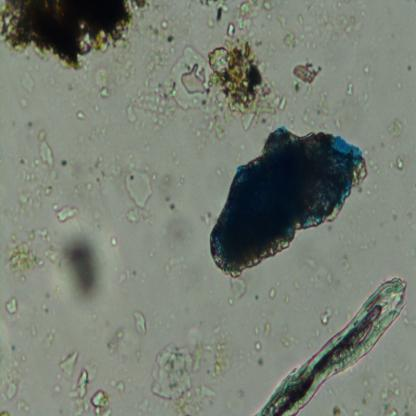Background material: (126, 43, 274, 132), (0, 0, 147, 69), (48, 227, 112, 312), (155, 336, 232, 406), (11, 140, 70, 223), (59, 346, 112, 414), (283, 4, 362, 49), (286, 87, 348, 137), (200, 2, 275, 40), (97, 43, 144, 100), (6, 227, 56, 276), (0, 341, 30, 413), (74, 155, 121, 199), (124, 170, 158, 229), (158, 222, 192, 276), (159, 160, 186, 207), (246, 315, 283, 345), (29, 124, 56, 165), (379, 369, 401, 415), (291, 58, 324, 86), (16, 68, 36, 111), (226, 274, 249, 308), (298, 252, 328, 278), (106, 320, 128, 354), (280, 319, 300, 346), (132, 308, 148, 338), (119, 264, 141, 284), (3, 295, 20, 320), (84, 124, 104, 145), (386, 117, 404, 139), (36, 332, 55, 347), (110, 374, 124, 394), (194, 211, 212, 226), (389, 156, 406, 171), (274, 95, 290, 110), (341, 254, 355, 270), (321, 306, 332, 323), (106, 234, 118, 249), (361, 62, 371, 78), (345, 81, 354, 98), (267, 285, 277, 299), (160, 19, 170, 33), (253, 339, 262, 353), (361, 94, 369, 108), (74, 112, 85, 119), (406, 65, 413, 70)
Cellulose filter fibre: (253, 276, 409, 414)
Fragment: (208, 128, 364, 274)
